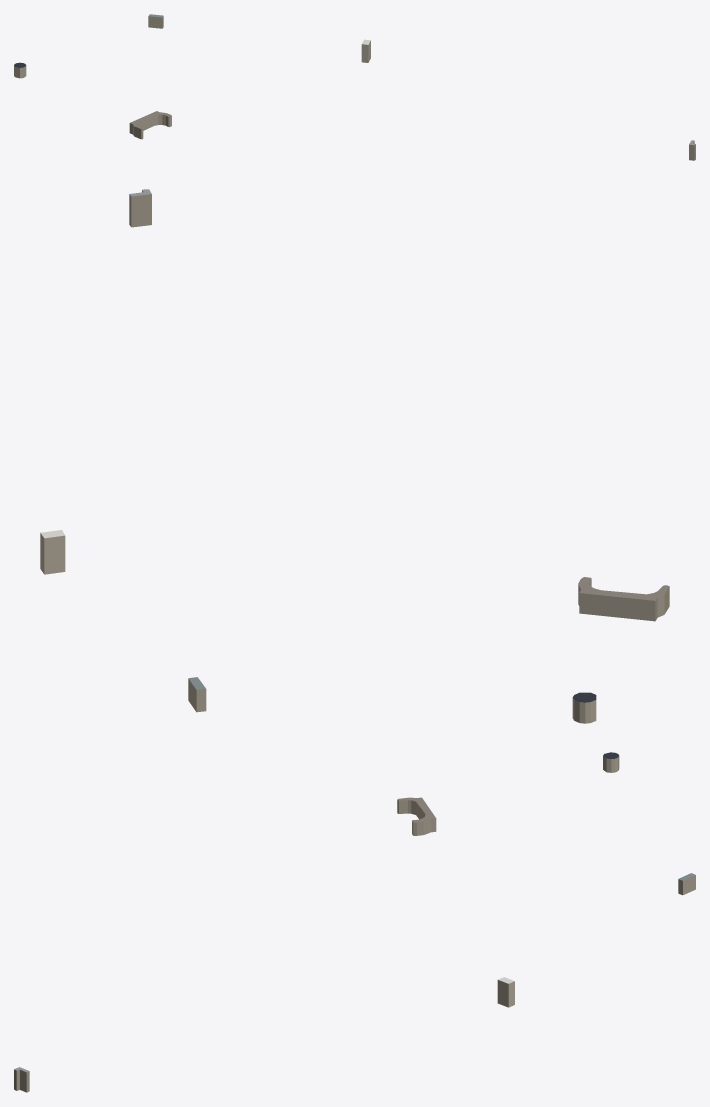
3 renders of one model, top to bottom at view 1: azimuth 30°, elevation 25°; view 2: azimuth 150°, elevation 25°; view 3: azimuth 270°, elevation 25°, orthographic. The views are drawn at different scales.
Parts seen in each view (by area): view 1: tuile; view 2: tuile; view 3: tuile.
Boxes of the visible parts, bbox=[...] form: tuile: bbox=[14, 14, 695, 160]; tuile: bbox=[40, 189, 669, 723]; tuile: bbox=[14, 752, 695, 1092].
Bounding box in the file's own units: 221 × 18.75 × 218.
